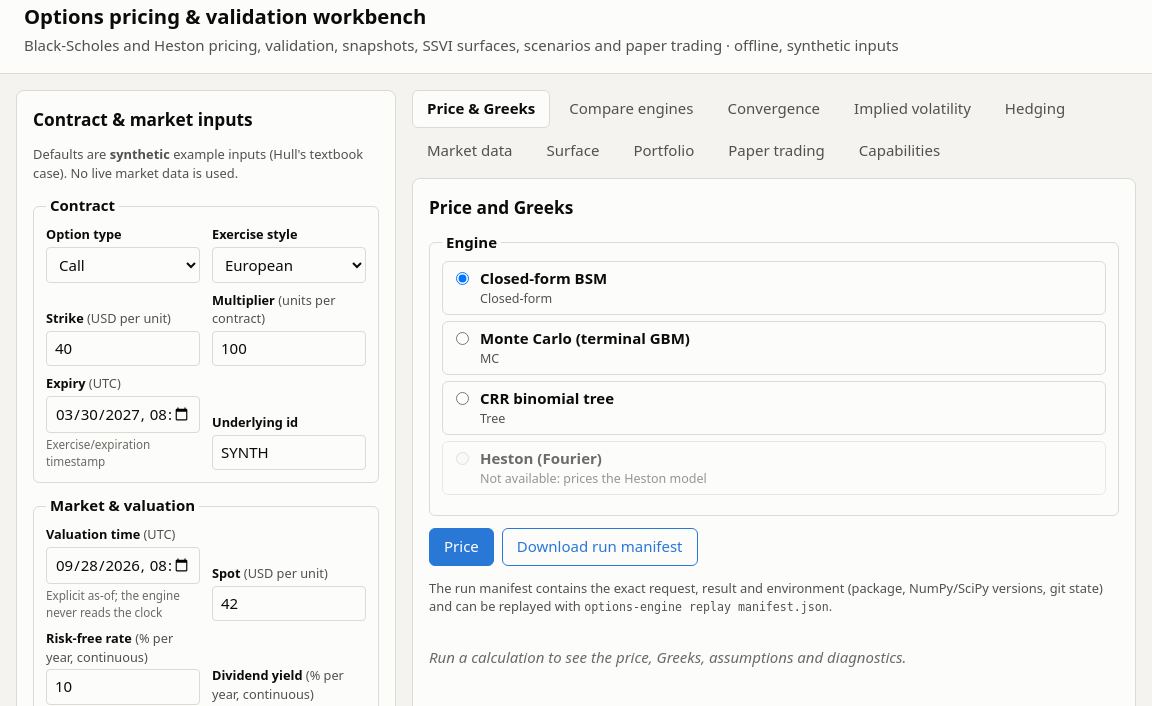
Test: App › sends percent inputs as exact decimal strings and shows structured errors
This screenshot has width=1152, height=706.
Check: the text "Closed-form BSM" is shown, box [480,268,607,288]
Click the button "Price".
click(461, 547)  # box [429,528,494,566]
(page scrolled)
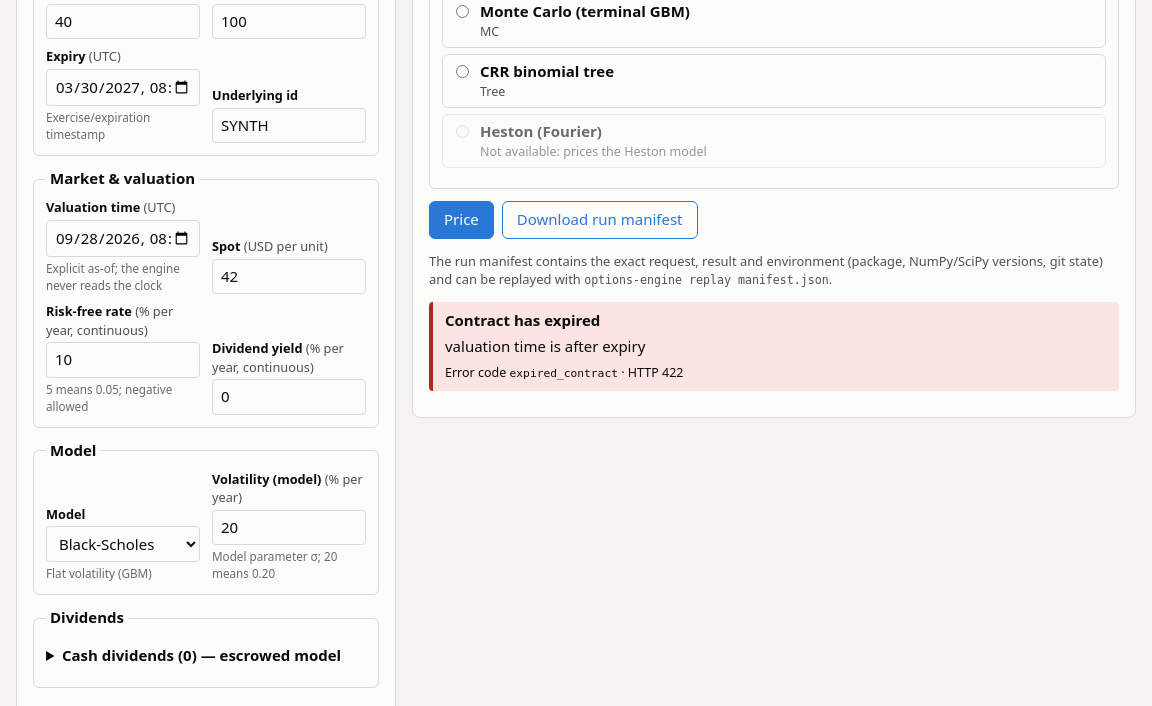
Check: the message shows "Contract has expired", box [445,310,600,330]
